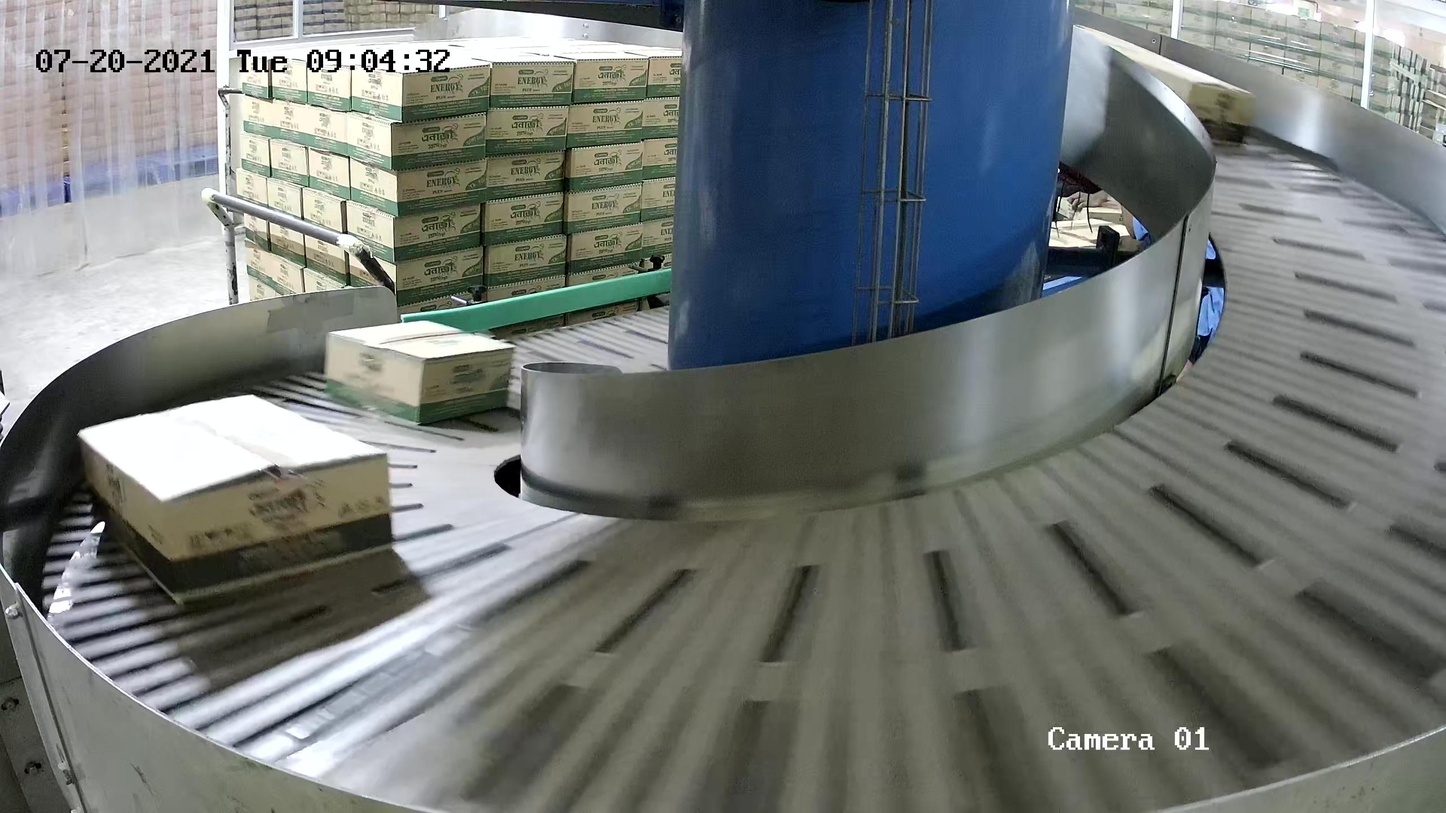Box: (78, 392, 394, 602), (1074, 23, 1255, 146), (324, 319, 517, 425)
